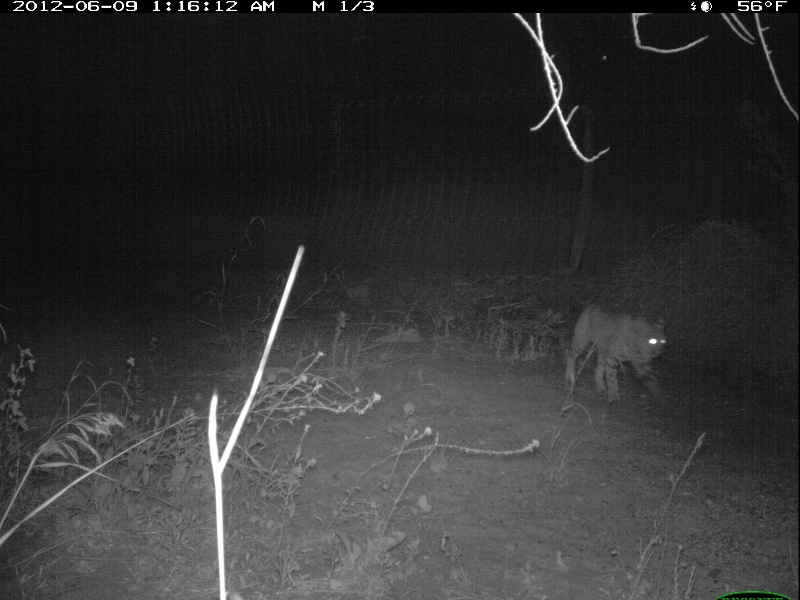cat: (556, 302, 672, 402)
